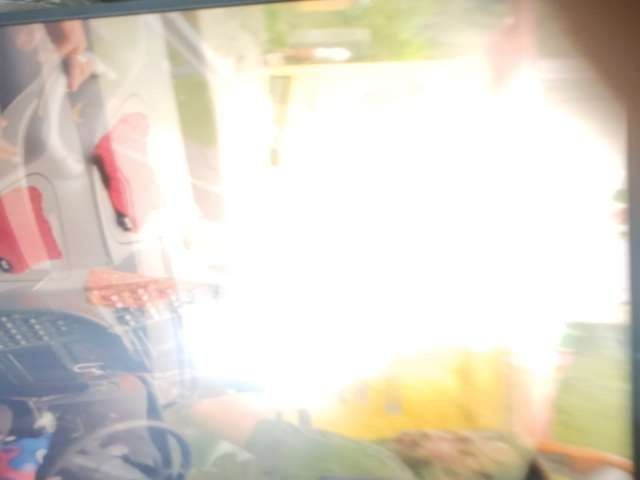pothole: (319, 316, 419, 396)
